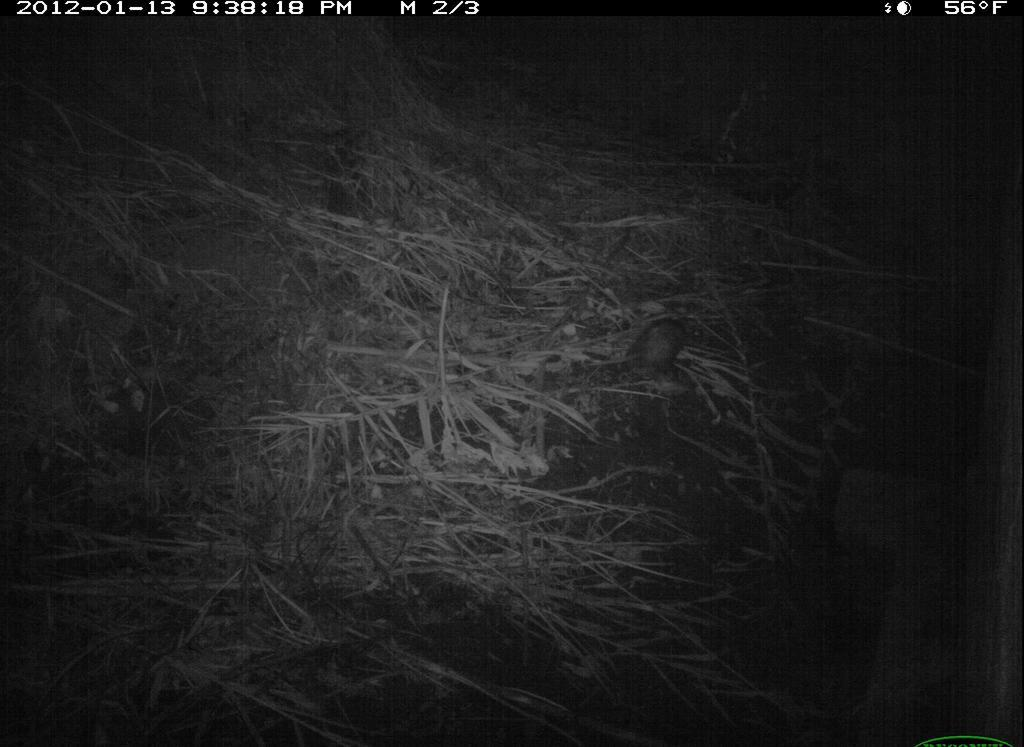opossum: (607, 310, 700, 395)
